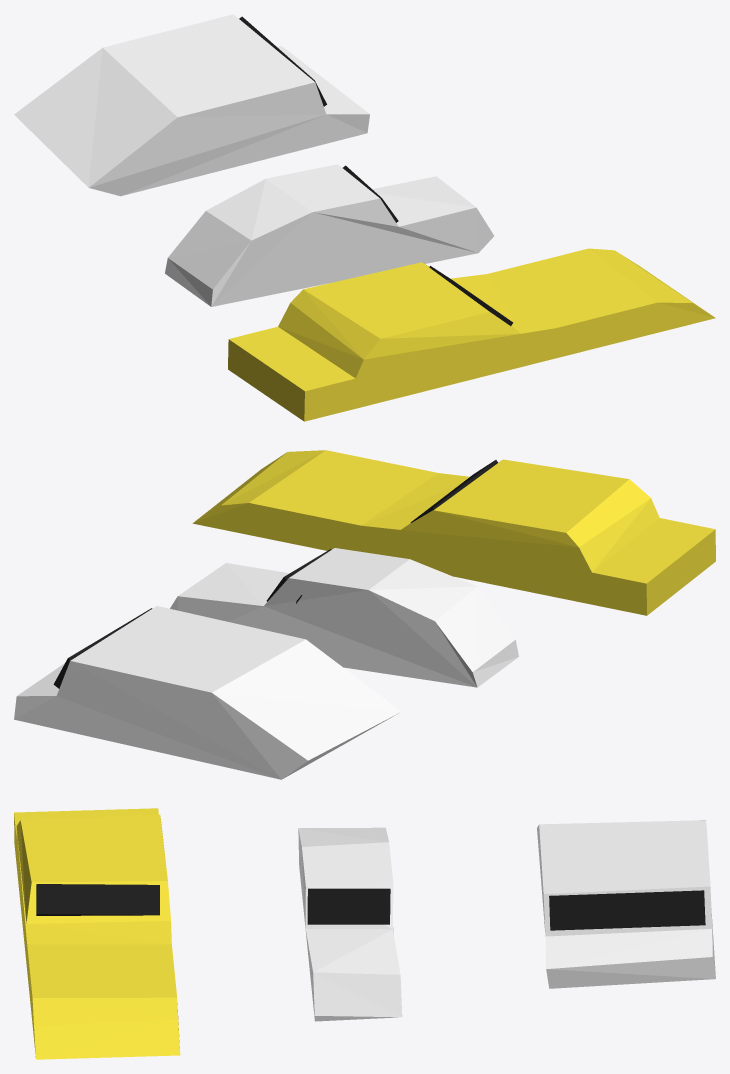
3 renders of one model, top to bottom at view 1: azimuth 30°, elevation 25°; view 2: azimuth 150°, elevation 25°; view 3: azimuth 270°, elevation 25°, orthographic. The views are drawn at different scales.
Parts seen in each view (by area): view 1: mesh_679774019, mesh_1419585877, mesh_1875620045; view 2: mesh_679774019, mesh_1419585877, mesh_1875620045; view 3: mesh_679774019, mesh_1419585877, mesh_1875620045, mesh_1393011810, mesh_2123344977, mesh_2048825518.
Boxes of the visible parts, x1,y1,x2,y2 form: mesh_679774019: [228, 248, 715, 421]; mesh_1419585877: [14, 14, 369, 196]; mesh_1875620045: [165, 164, 493, 306]; mesh_679774019: [192, 450, 715, 615]; mesh_1419585877: [14, 606, 401, 779]; mesh_1875620045: [170, 548, 518, 687]; mesh_679774019: [14, 808, 180, 1059]; mesh_1419585877: [537, 820, 715, 988]; mesh_1875620045: [298, 827, 402, 1021]; mesh_1393011810: [549, 890, 705, 930]; mesh_2123344977: [36, 884, 159, 915]; mesh_2048825518: [307, 888, 390, 924].
Bounding box in the file's own units: 118 × 28.68 × 165.
